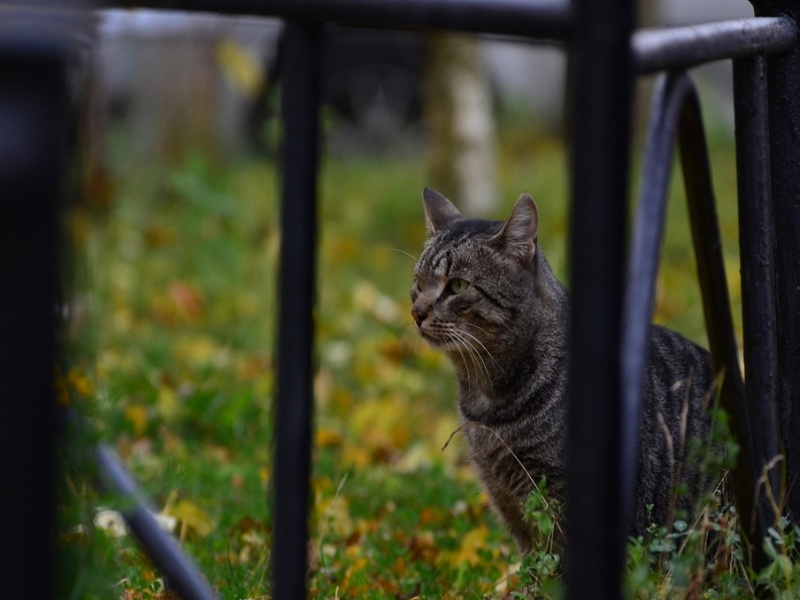cat: (407, 180, 767, 569)
